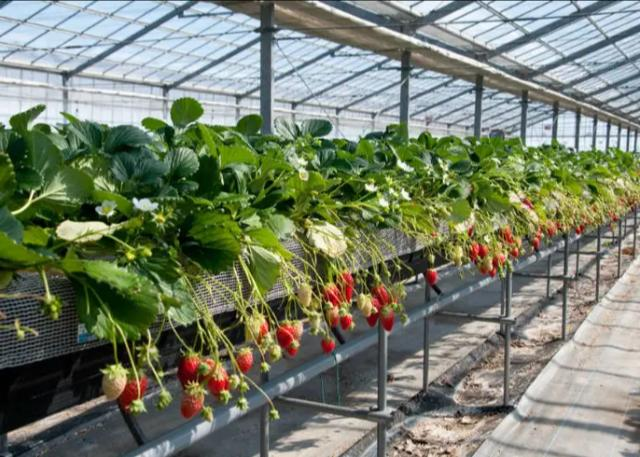Strawberries: (118, 372, 146, 412), (176, 352, 204, 388), (182, 385, 204, 419), (329, 273, 353, 303), (277, 324, 295, 348), (366, 297, 379, 326), (237, 350, 253, 372), (209, 372, 223, 396), (381, 306, 394, 331), (338, 312, 352, 331), (322, 338, 334, 354), (426, 268, 436, 286)
